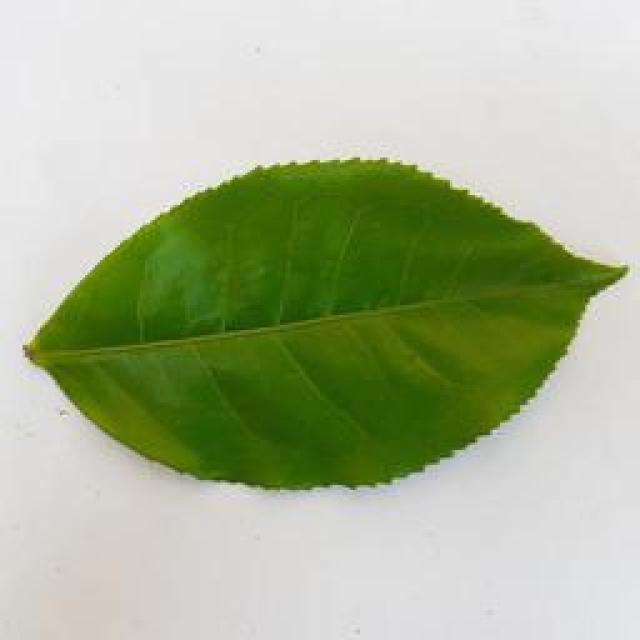Healthy: (2, 150, 640, 500)
